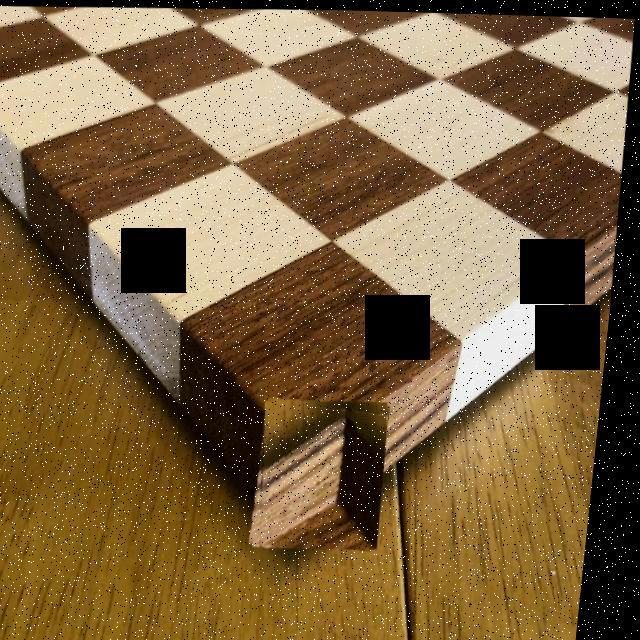chess-table-corners: (259, 395, 400, 548)
